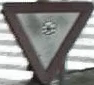Give way: (0, 2, 91, 80)
